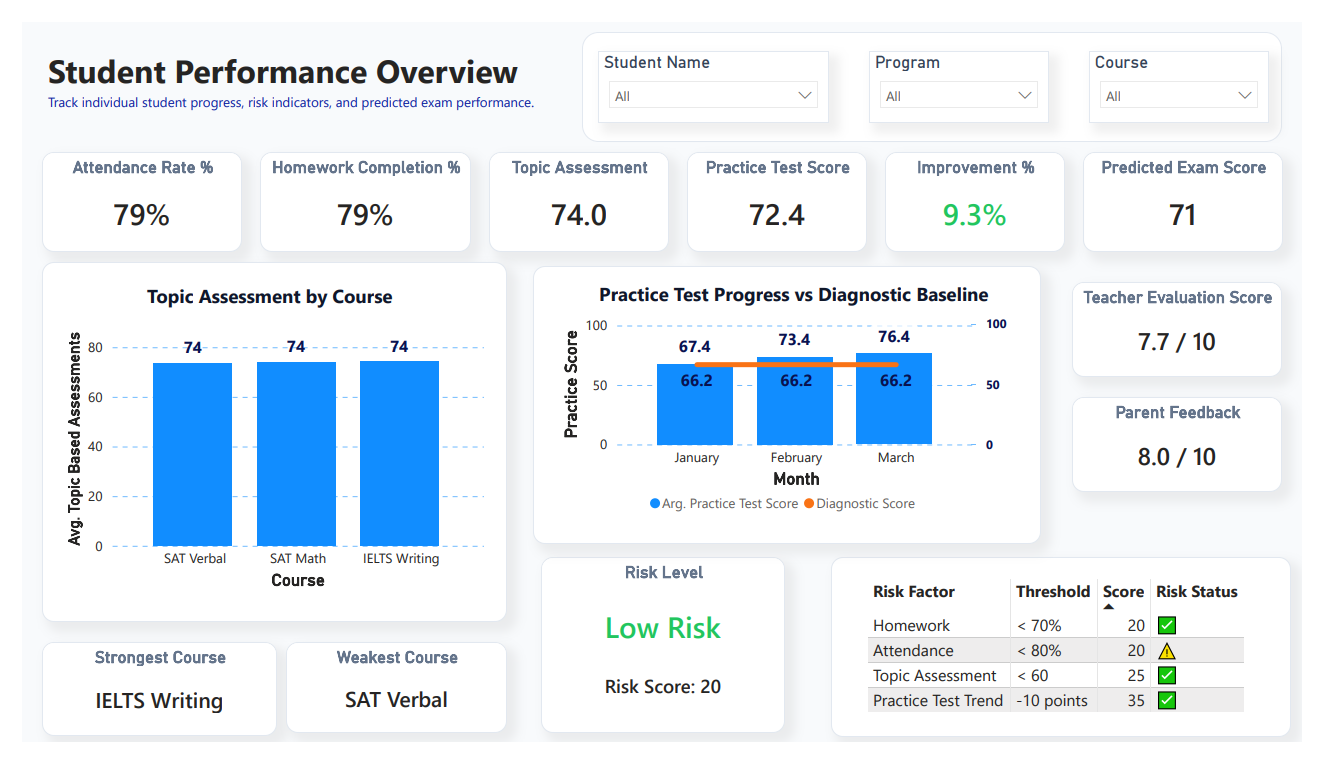

Layout of this report page (visuals, bound fields, positions):
{"tool":"powerbi","page":{"name":"Student Performance Overview","canvas":[1280,720],"ordinal":0},"visuals":[{"type":"textbox","box":[20.6,20.6,521.4,96.1],"z":0},{"type":"group","id":"g1","title":"Group 1","box":[560,10,700,110],"z":1000},{"type":"shape","box":[560,10,700,110],"z":1000,"group":"g1"},{"type":"slicer","title":"Student Name","fields":{"Values":["HubPrep_Data.Student_Name"]},"box":[576,29.5,230.6,71],"z":2000,"group":"g1"},{"type":"cardVisual","title":"Attendance Rate %","fields":{"Data":["Dax.Attendance Display"]},"box":[20,130,200,100.2],"z":2000},{"type":"slicer","title":"Program","fields":{"Values":["HubPrep_Data.Program"]},"box":[847,29.5,180,71],"z":3000,"group":"g1"},{"type":"cardVisual","title":"Homework Completion %","fields":{"Data":["Dax.Homework Display"]},"box":[238.1,130,210.9,100.1],"z":3000},{"type":"slicer","title":"Course","fields":{"Values":["HubPrep_Data.Course"]},"box":[1067.4,29.5,179.8,71],"z":4000,"group":"g1"},{"type":"cardVisual","title":"Topic Assessment","fields":{"Data":["Dax.Topic Mastery"]},"box":[467,130,180,100],"z":4000},{"type":"cardVisual","title":"Teacher Evaluation Score","fields":{"Data":["Dax.Teacher Feedback Display"]},"box":[1050,260,210,95],"z":5000},{"type":"cardVisual","title":"Predicted Exam Score","fields":{"Data":["Dax.Predicted Exam Score"]},"box":[1061.2,130,200,100],"z":6000},{"type":"cardVisual","title":"Practice Test Score","fields":{"Data":["Avg(HubPrep_Data.Practice_Test_Score)"]},"box":[665.1,130,180,100],"z":7000},{"type":"cardVisual","title":"Risk Level","fields":{"Data":["Dax.Risk Level","Dax.Risk Score Display"]},"box":[518.8,535,243.8,176.2],"z":8000},{"type":"cardVisual","title":"Improvement %","fields":{"Data":["Dax.Improvement %"]},"box":[863.2,130,180,100],"z":9000},{"type":"shape","box":[511.2,243.8,507.5,277.5],"z":9000,"group":"g3"},{"type":"textbox","box":[563.4,254.1,417.5,40],"z":10000,"group":"g3"},{"type":"cardVisual","title":"Parent Feedback","fields":{"Data":["Dax.Parent Feedback Display"]},"box":[1050,375,210,95],"z":10000},{"type":"lineStackedColumnComboChart","fields":{"Category":["HubPrep_Data.Session_Date.Variation.Date Hierarchy.Month"],"Y":["Avg(HubPrep_Data.Practice_Test_Score)"],"Y2":["Avg(HubPrep_Data.Diagnostic_Score)"]},"box":[534.7,286.5,456.2,213.5],"z":11000,"group":"g3"},{"type":"cardVisual","title":"Strongest Course","fields":{"Data":["Dax.Strongest Subject"]},"box":[20,620,235,94],"z":11000},{"type":"shape","box":[20,240,465,360],"z":12000,"group":"g4"},{"type":"cardVisual","title":"Weakest Course","fields":{"Data":["Dax.Weakest Course"]},"box":[263.8,620,221.2,91.2],"z":12000},{"type":"clusteredColumnChart","fields":{"Category":["HubPrep_Data.Course"],"Y":["Avg(HubPrep_Data.Topic_Based_Assessments)"]},"box":[37.6,295.4,429.8,276.9],"z":13000,"group":"g4"},{"type":"group","id":"g2","title":"Group 2","box":[808.9,534.8,460,180],"z":13000},{"type":"group","id":"g3","title":"Group 3","box":[511.2,243.8,507.5,277.5],"z":14000},{"type":"textbox","box":[116.2,256.2,263.8,38.8],"z":14000,"group":"g4"},{"type":"group","id":"g4","title":"Group 3","box":[20,240,465,360],"z":15000},{"type":"shape","box":[808.9,534.8,460,180],"z":19000,"group":"g2"},{"type":"tableEx","fields":{"Values":["Risk Breakdown.Risk Factor","Risk Breakdown.Threshold","Risk Breakdown.Skor","Dax.Risk Status"]},"box":[839.5,551.7,398.8,146.2],"z":20000,"group":"g2"}]}

Visuals, with their boxes in screenshot pixels (x1, y1, x2, y2), scaled from the page's 1280x720 canvas onto the 1322x760 screenshot:
textbox: BBox(21, 22, 560, 123)
"Group 1" group: BBox(578, 11, 1301, 127)
shape: BBox(578, 11, 1301, 127)
"Student Name" slicer: BBox(595, 31, 833, 106)
"Attendance Rate %" cardVisual: BBox(21, 137, 227, 243)
"Program" slicer: BBox(875, 31, 1061, 106)
"Homework Completion %" cardVisual: BBox(246, 137, 464, 243)
"Course" slicer: BBox(1102, 31, 1288, 106)
"Topic Assessment" cardVisual: BBox(482, 137, 668, 243)
"Teacher Evaluation Score" cardVisual: BBox(1084, 274, 1301, 375)
"Predicted Exam Score" cardVisual: BBox(1096, 137, 1303, 243)
"Practice Test Score" cardVisual: BBox(687, 137, 873, 243)
"Risk Level" cardVisual: BBox(536, 565, 788, 751)
"Improvement %" cardVisual: BBox(892, 137, 1077, 243)
shape: BBox(528, 257, 1052, 550)
textbox: BBox(582, 268, 1013, 310)
"Parent Feedback" cardVisual: BBox(1084, 396, 1301, 496)
lineStackedColumnComboChart - HubPrep_Data.Session_Date.Variation.Date Hierarchy.Month x Avg(HubPrep_Data.Practice_Test_Score): BBox(552, 302, 1023, 528)
"Strongest Course" cardVisual: BBox(21, 654, 263, 754)
shape: BBox(21, 253, 501, 633)
"Weakest Course" cardVisual: BBox(272, 654, 501, 751)
clusteredColumnChart - HubPrep_Data.Course x Avg(HubPrep_Data.Topic_Based_Assessments): BBox(39, 312, 483, 604)
"Group 2" group: BBox(835, 565, 1311, 755)
"Group 3" group: BBox(528, 257, 1052, 550)
textbox: BBox(120, 270, 392, 311)
"Group 3" group: BBox(21, 253, 501, 633)
shape: BBox(835, 565, 1311, 755)
tableEx - Risk Breakdown.Risk Factor x Risk Breakdown.Threshold: BBox(867, 582, 1279, 737)
